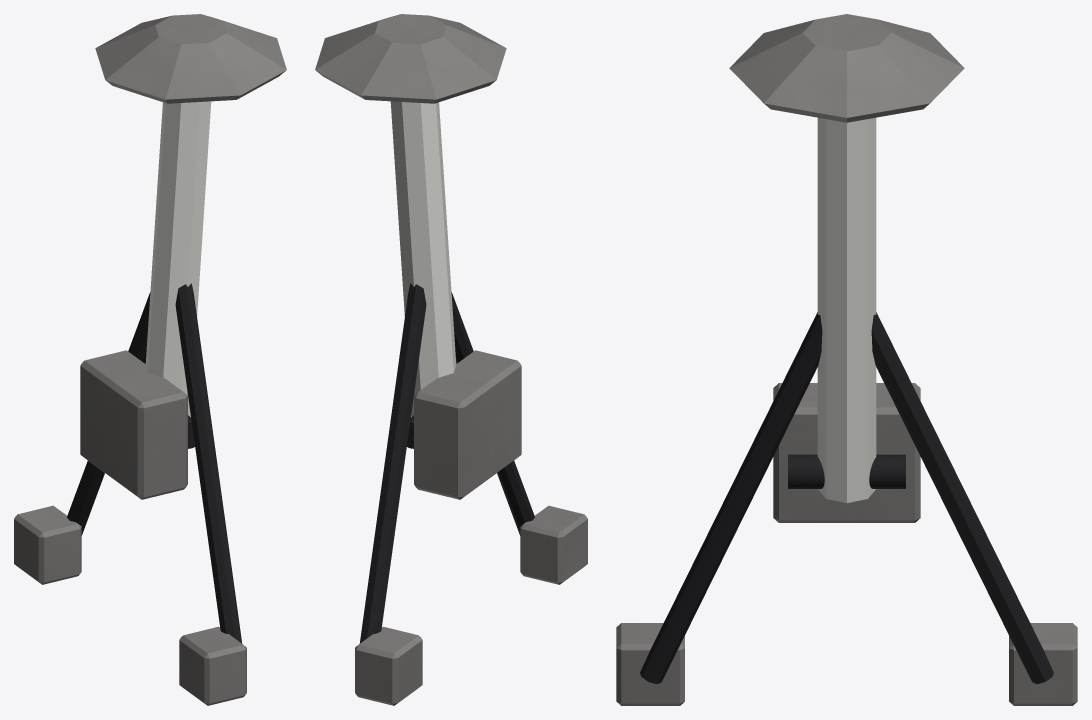
File: ax_gear_04_lander_leg_s.glb
3 renders of one model, left to right at view 1: azimuth 30°, elevation 25°; view 2: azimuth 150°, elevation 25°; view 3: azimuth 270°, elevation 25°, orthographic. The views are drawn at different scales.
Visible parts, largest first — view 1: leg_hinge_block, leg_footpad, leg_outer_tube, leg_secondary_struts; view 2: leg_hinge_block, leg_footpad, leg_outer_tube, leg_secondary_struts; view 3: leg_outer_tube, leg_secondary_struts, leg_footpad, leg_hinge_block, leg_hinge_pin.
Boxes of the visible parts, x1,y1,x2,y2 form: leg_hinge_block: (14,350,246,705); leg_footpad: (95,14,286,103); leg_outer_tube: (145,101,211,416); leg_secondary_struts: (67,283,242,643); leg_hinge_block: (355,350,587,705); leg_footpad: (315,14,506,103); leg_outer_tube: (390,101,456,416); leg_secondary_struts: (359,283,534,643); leg_outer_tube: (817,117,876,502); leg_secondary_struts: (640,312,1053,683); leg_footpad: (729,14,964,122); leg_hinge_block: (616,383,1077,705); leg_hinge_pin: (788,454,905,488).
Size of the model in its own units: 0.48 by 1.57 by 0.94.
5 materials, 3 textured.
